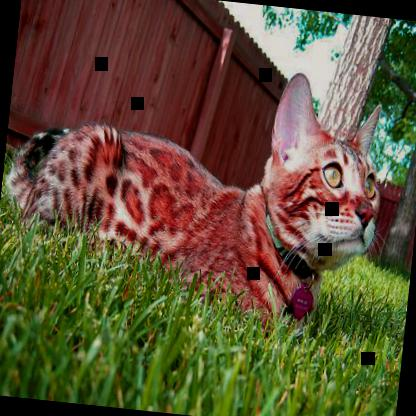cat: (0, 42, 392, 343)
